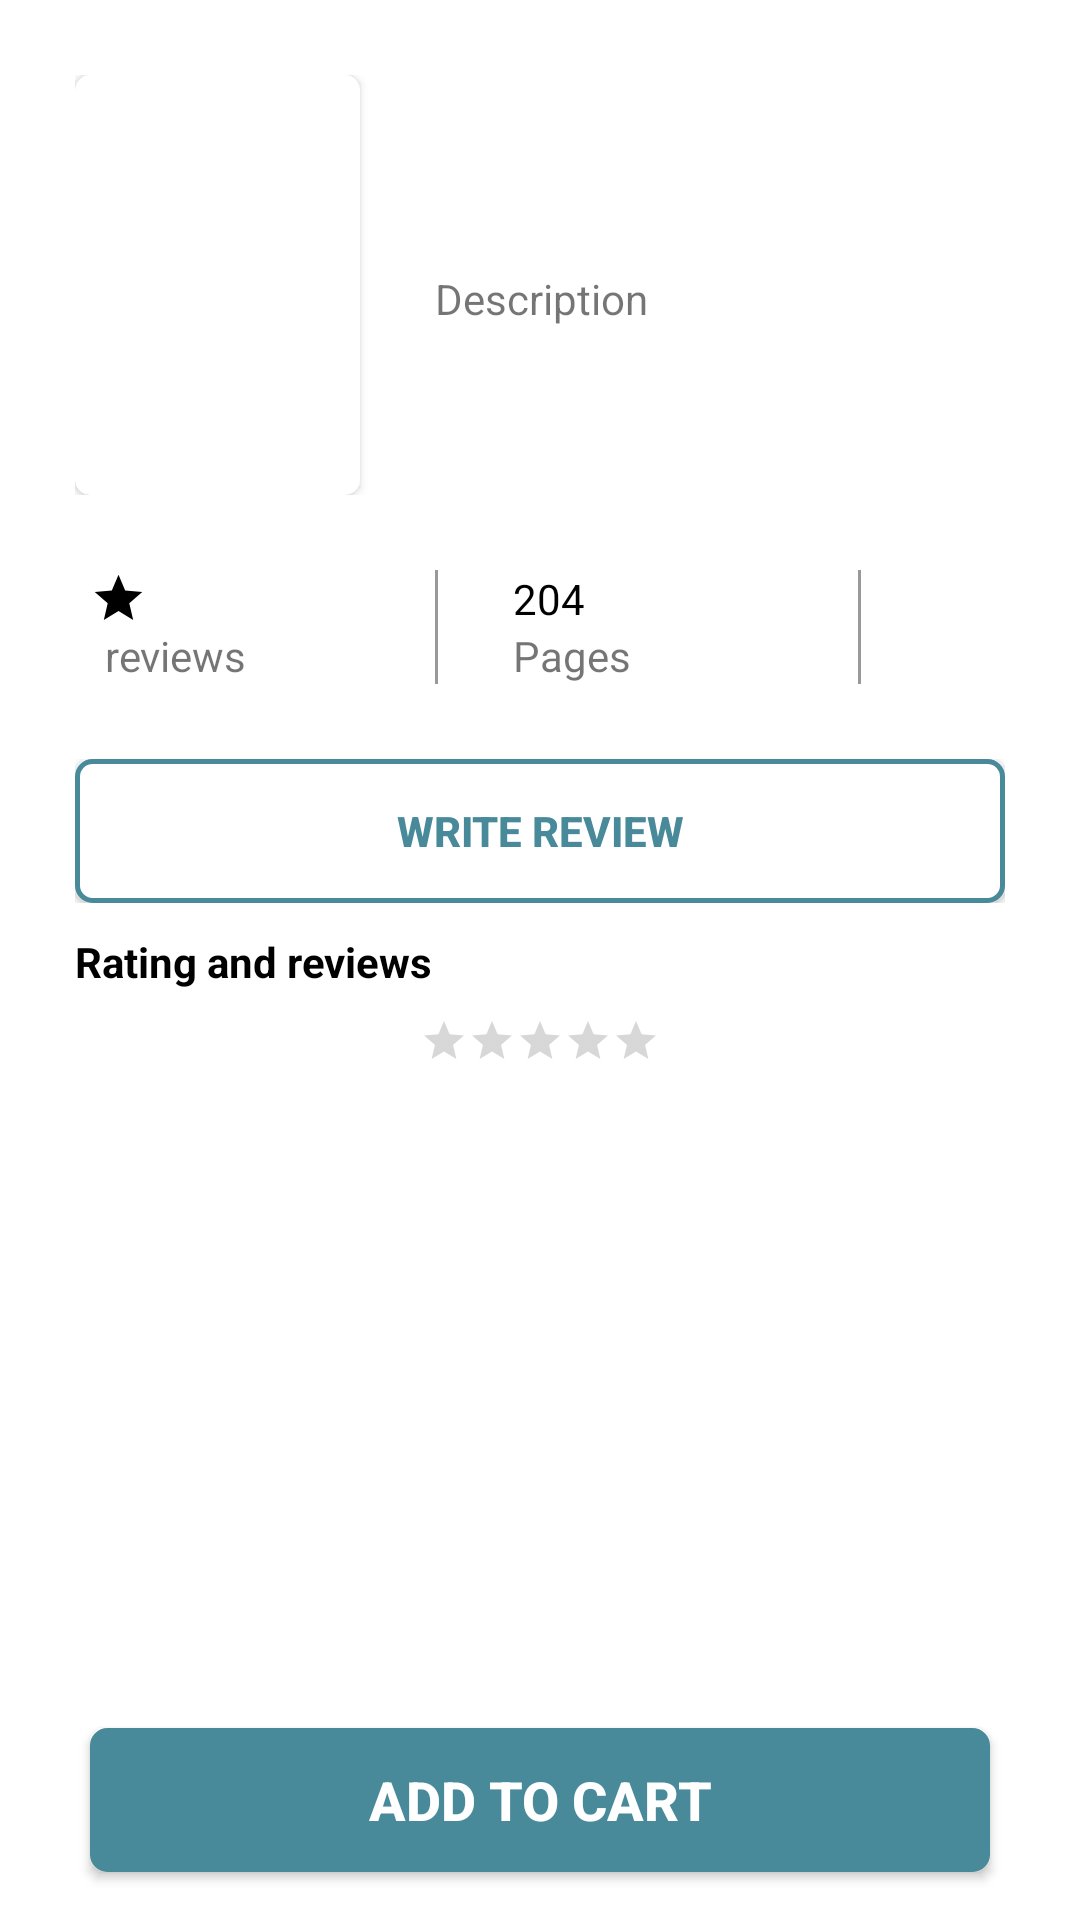

Icon click points for this 1080x1920 phone screenshot, format point (x, y):
star: point (118, 597)
